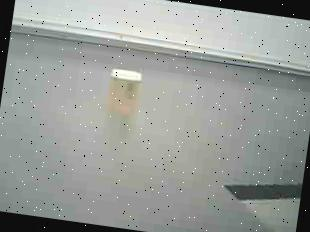Bottle B: (96, 61, 150, 124)
